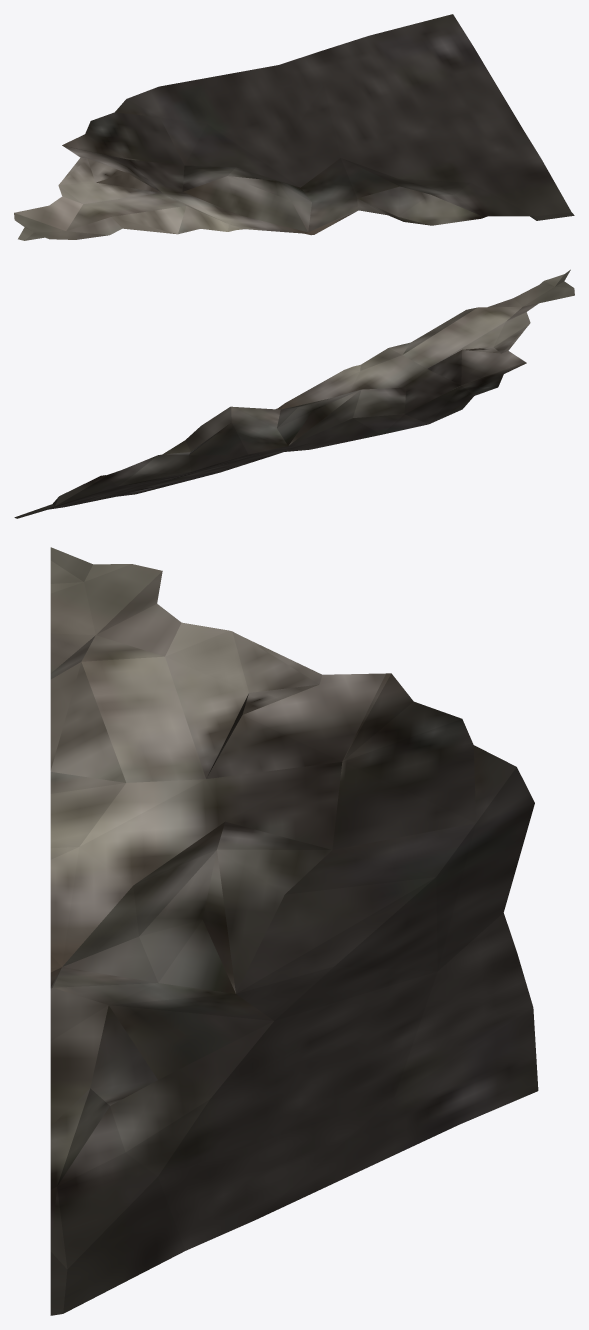
3 renders of one model, top to bottom at view 1: azimuth 30°, elevation 25°; view 2: azimuth 210°, elevation 25°; view 3: azimuth 270°, elevation 25°, orthographic. The views are drawn at different scales.
Bounding box in the file's own units: 0.3237 × 0.0624 × 0.1227.
1 material, 1 textured.
